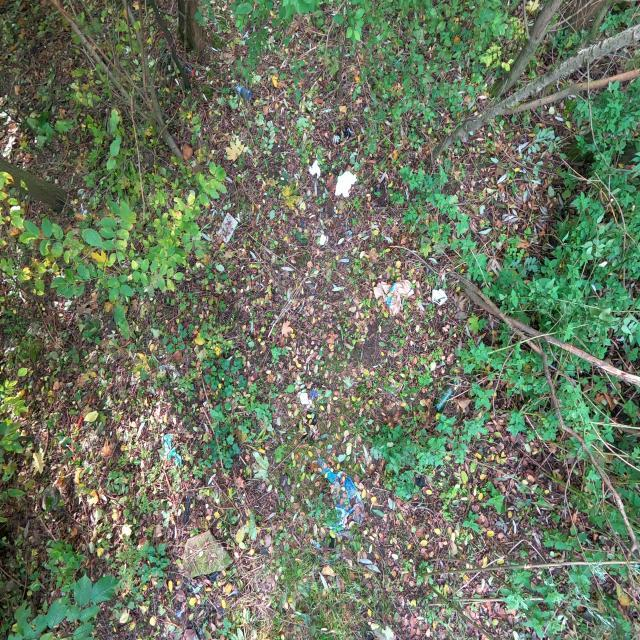rubbish: (317, 458, 365, 532), (372, 277, 416, 317), (71, 396, 93, 464), (431, 376, 459, 413), (294, 406, 317, 446), (158, 433, 182, 470), (310, 539, 343, 563), (216, 212, 239, 245), (335, 170, 359, 199), (332, 124, 353, 145), (182, 485, 193, 525), (307, 385, 322, 409), (432, 289, 450, 306), (308, 159, 322, 180), (232, 86, 252, 100), (371, 182, 385, 200), (317, 234, 327, 246), (186, 65, 195, 76)
